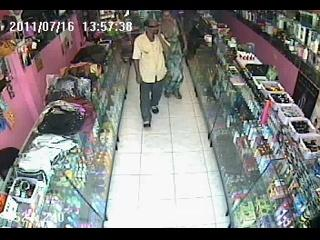Normal: (132, 18, 171, 128), (159, 12, 186, 100)
